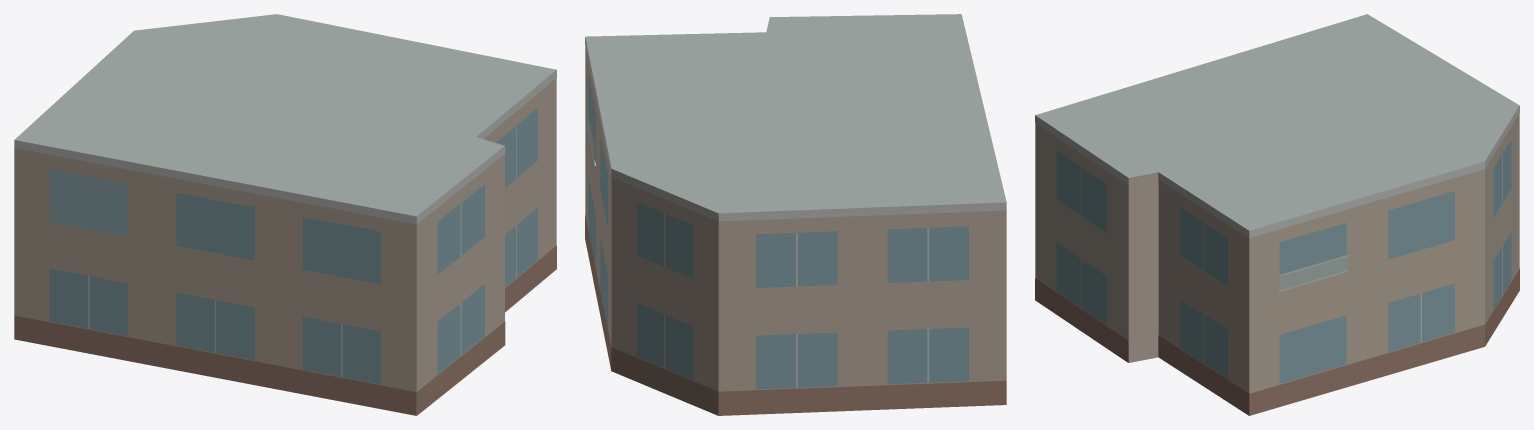
Rendered from survey-upis-32798714.glb.
3 views of the same model, side by side, from view 1: azimuth 30°, elevation 25°; view 2: azimuth 150°, elevation 25°; view 3: azimuth 270°, elevation 25° (orthographic). The views are drawn at different scales.
Visible parts, largest first — view 1: survey-upis-32798714.tmp; view 2: survey-upis-32798714.tmp; view 3: survey-upis-32798714.tmp.
Boxes of the visible parts, x1,y1,x2,y2 form: survey-upis-32798714.tmp: (14,14,556,415); survey-upis-32798714.tmp: (585,14,1006,415); survey-upis-32798714.tmp: (1035,14,1519,415).
Size of the model in its own units: 15.33 by 6.1 by 14.48.
